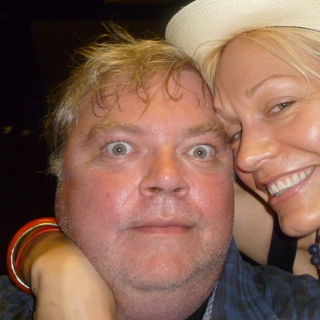eye: (90, 130, 142, 167), (169, 138, 225, 167), (255, 95, 302, 119), (210, 123, 252, 149)
